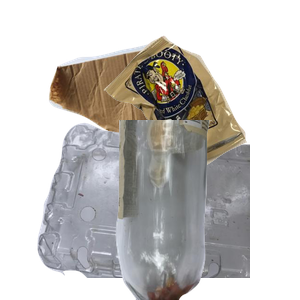cardboard: (46, 40, 226, 179)
glass: (113, 120, 300, 300)
plastic: (35, 120, 275, 300)
trash: (101, 33, 300, 206)
